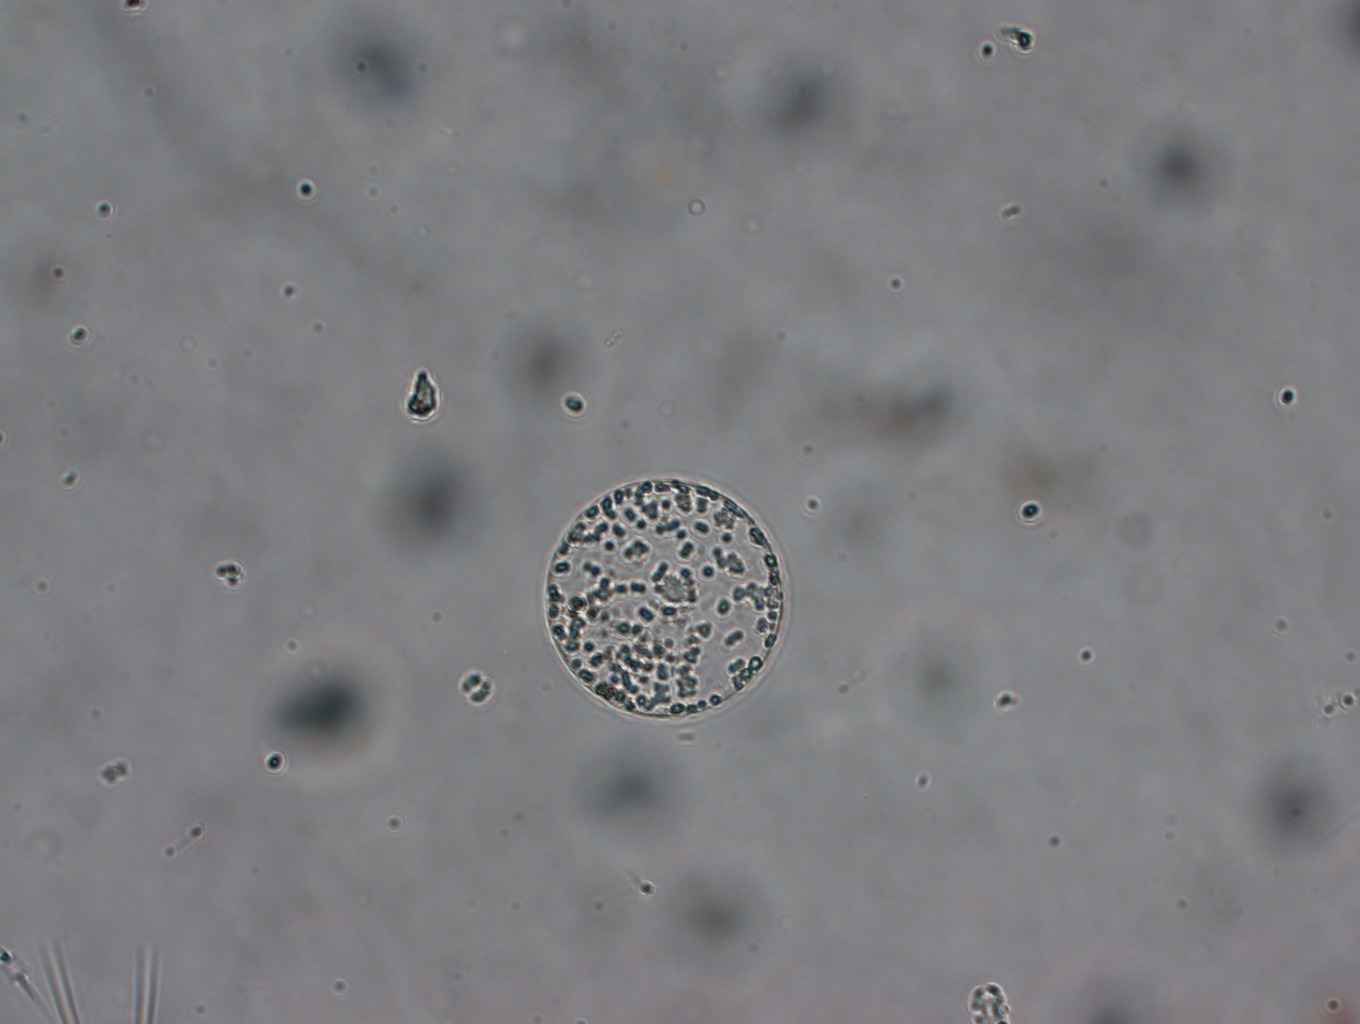coscinodiscus: (543, 475, 785, 720)
